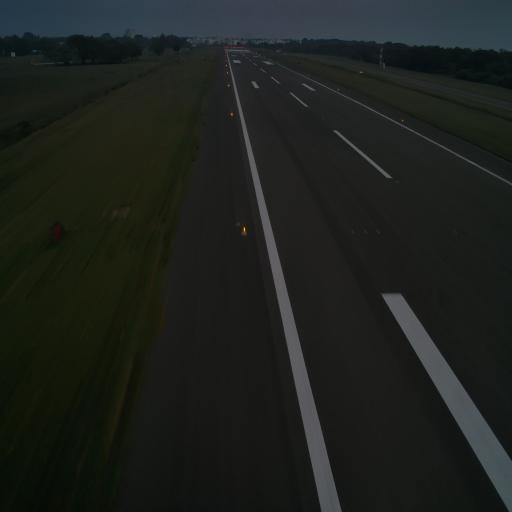off: (451, 228, 459, 238), (363, 227, 368, 237), (375, 228, 380, 238), (395, 176, 400, 186), (350, 228, 356, 236)
on: (241, 224, 248, 238), (400, 117, 406, 124)
